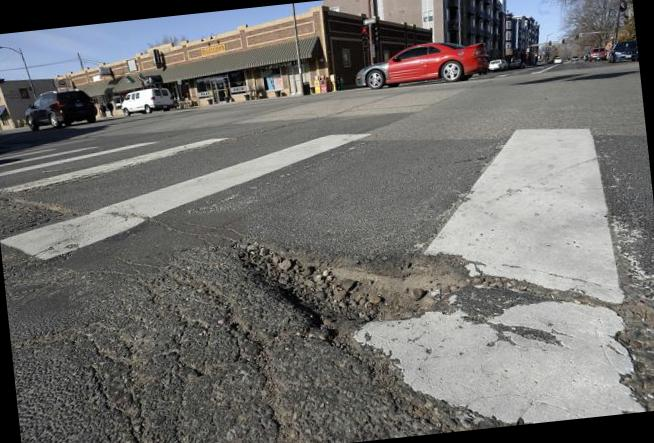pothole: (217, 182, 654, 443)
